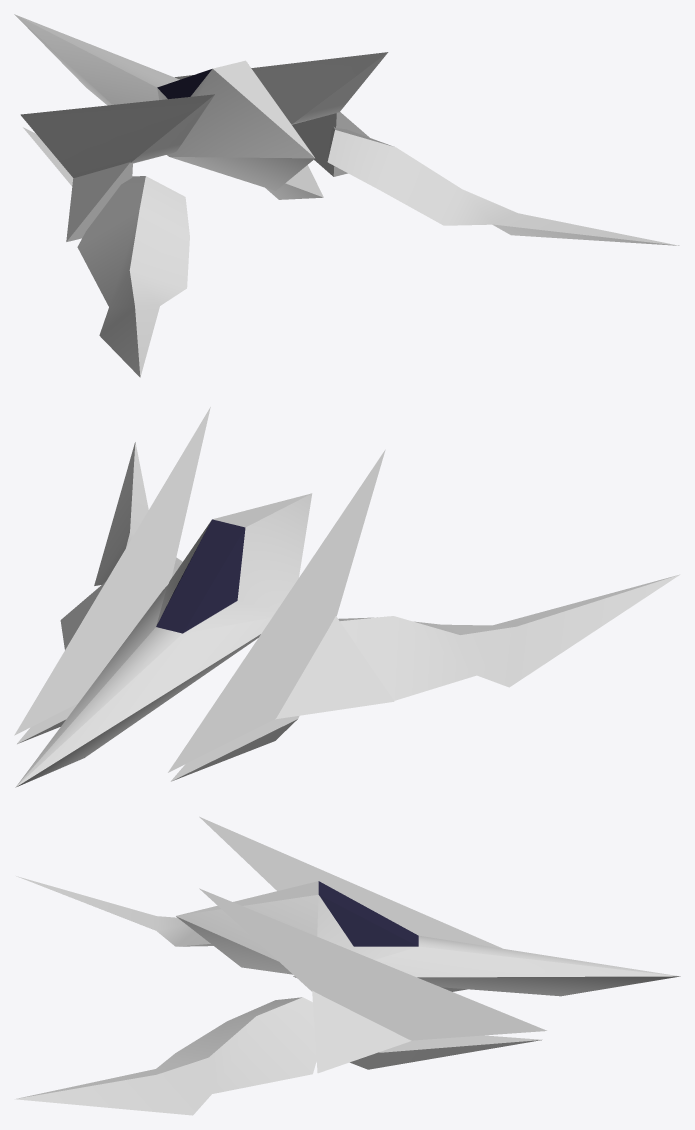
File: SpaceShipDeFou.fbx
The picture shows the model from 3 angles, top to bottom: view 1: azimuth 30°, elevation 25°; view 2: azimuth 150°, elevation 25°; view 3: azimuth 270°, elevation 25°; orthographic projection. The views are drawn at different scales.
Parts seen in each view (by area): view 1: Mesh; view 2: Mesh; view 3: Mesh.
Boxes of the visible parts, box(x1,y1,x2,y2) form: Mesh: box(14, 14, 679, 377); Mesh: box(14, 407, 680, 787); Mesh: box(14, 816, 680, 1115).
Size of the model in its own units: 320 by 124 by 403.
